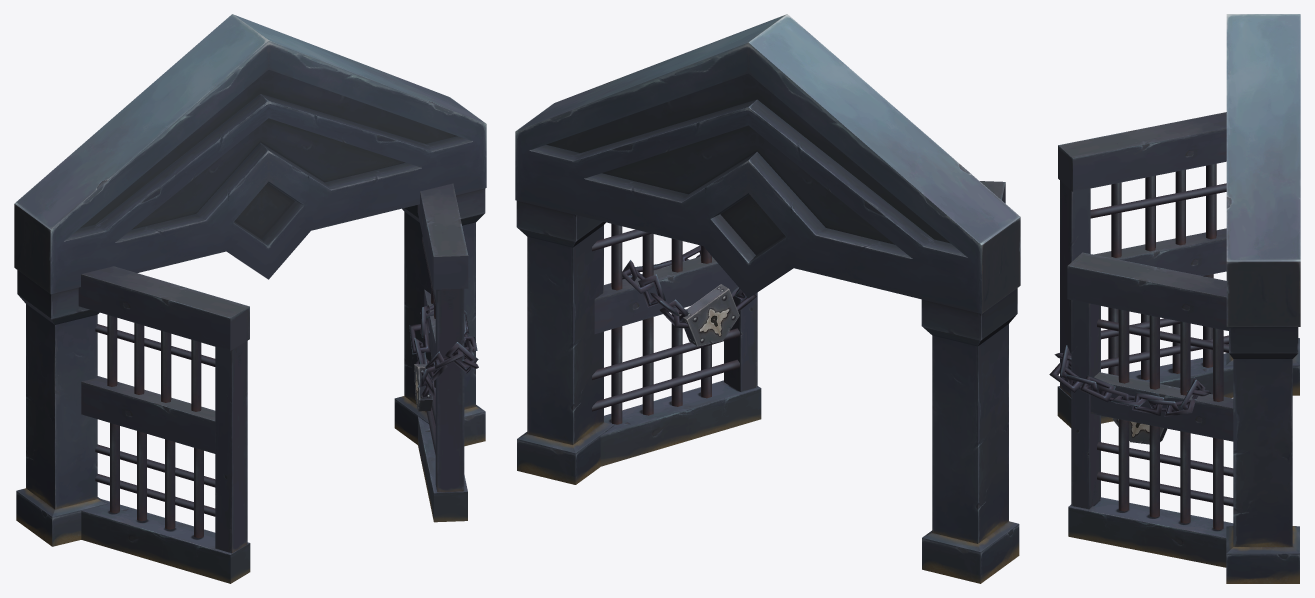
The model's file is scene_malujiakuangdao_door02.FBX.
The picture shows the model from 3 angles, left to right: view 1: azimuth 30°, elevation 25°; view 2: azimuth 150°, elevation 25°; view 3: azimuth 270°, elevation 25°; orthographic projection. The views are drawn at different scales.
Parts seen in each view (by area): view 1: scene_malujiakuangdao_door02; view 2: scene_malujiakuangdao_door02; view 3: scene_malujiakuangdao_door02.
Part boxes in pixels (x1=…): scene_malujiakuangdao_door02: x1=14, y1=14, x2=486, y2=583; scene_malujiakuangdao_door02: x1=515, y1=14, x2=1020, y2=583; scene_malujiakuangdao_door02: x1=1049, y1=14, x2=1300, y2=583.
Bounding box in the file's own units: 502 × 499 × 246.
